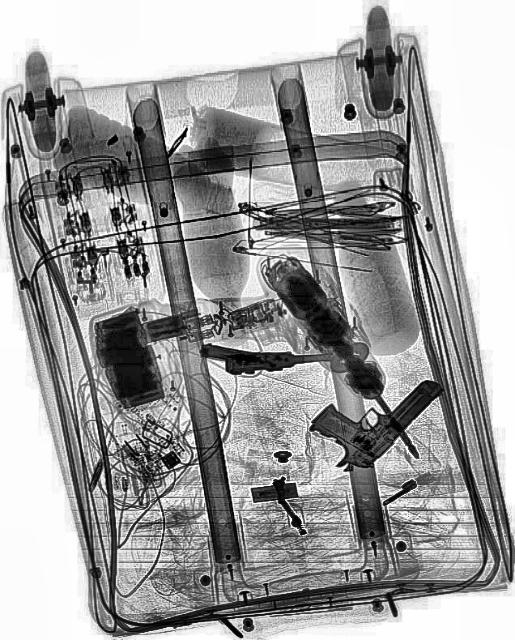Gun: (303, 328, 445, 486), (200, 335, 337, 375)
